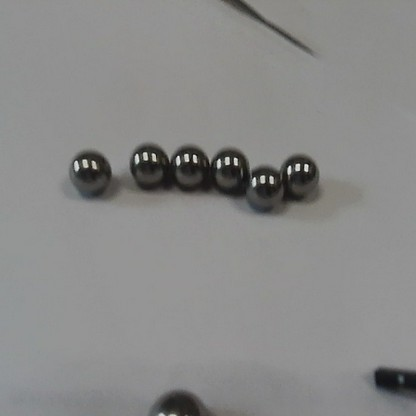ironball: (66, 148, 113, 198), (169, 140, 211, 194), (279, 148, 322, 199), (125, 143, 169, 191), (141, 386, 216, 414), (245, 159, 282, 214), (208, 148, 251, 191)
